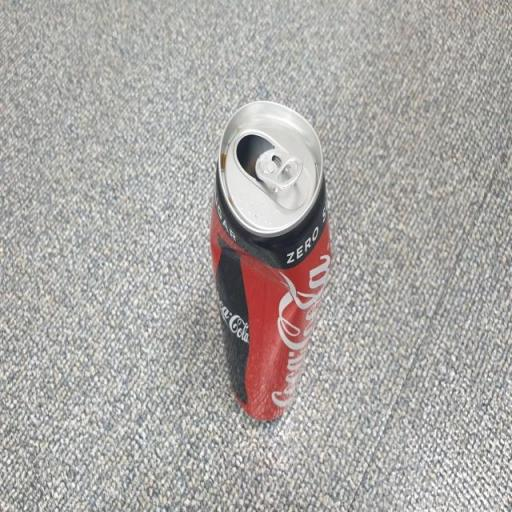metal: (209, 84, 363, 498)
